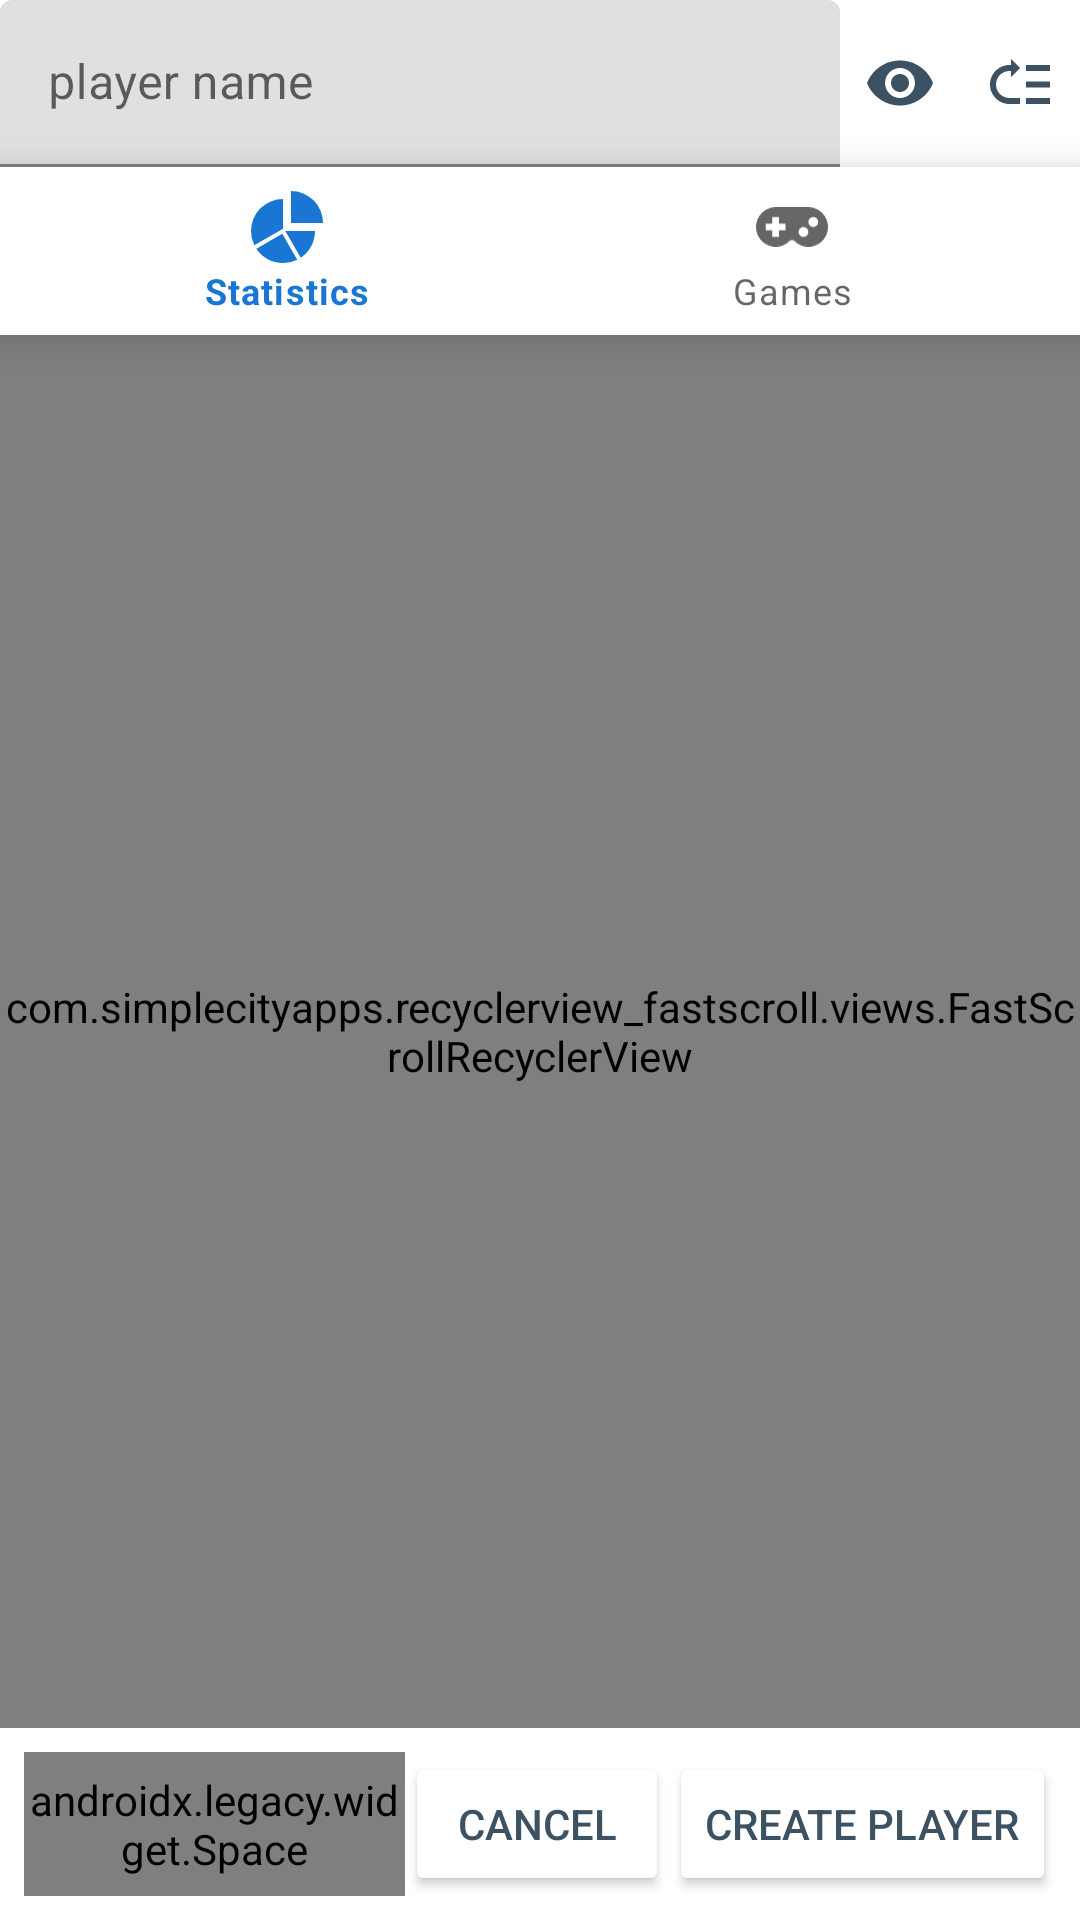

Named icons in this screenshot (1080px×1920px) and their centers, (x,y):
visibility on: (900,83)
